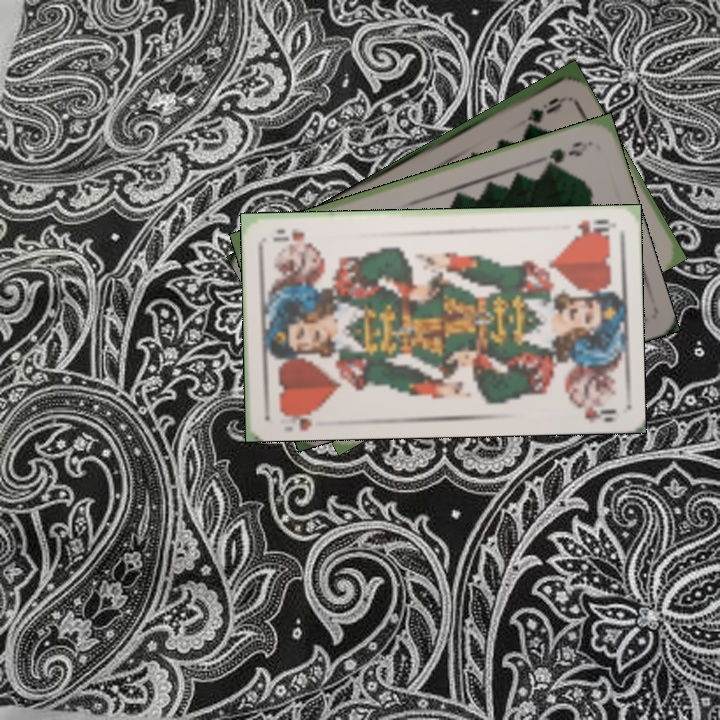G9: (538, 137, 592, 170), (523, 93, 567, 124)
HO: (276, 405, 321, 432), (571, 215, 612, 240)
